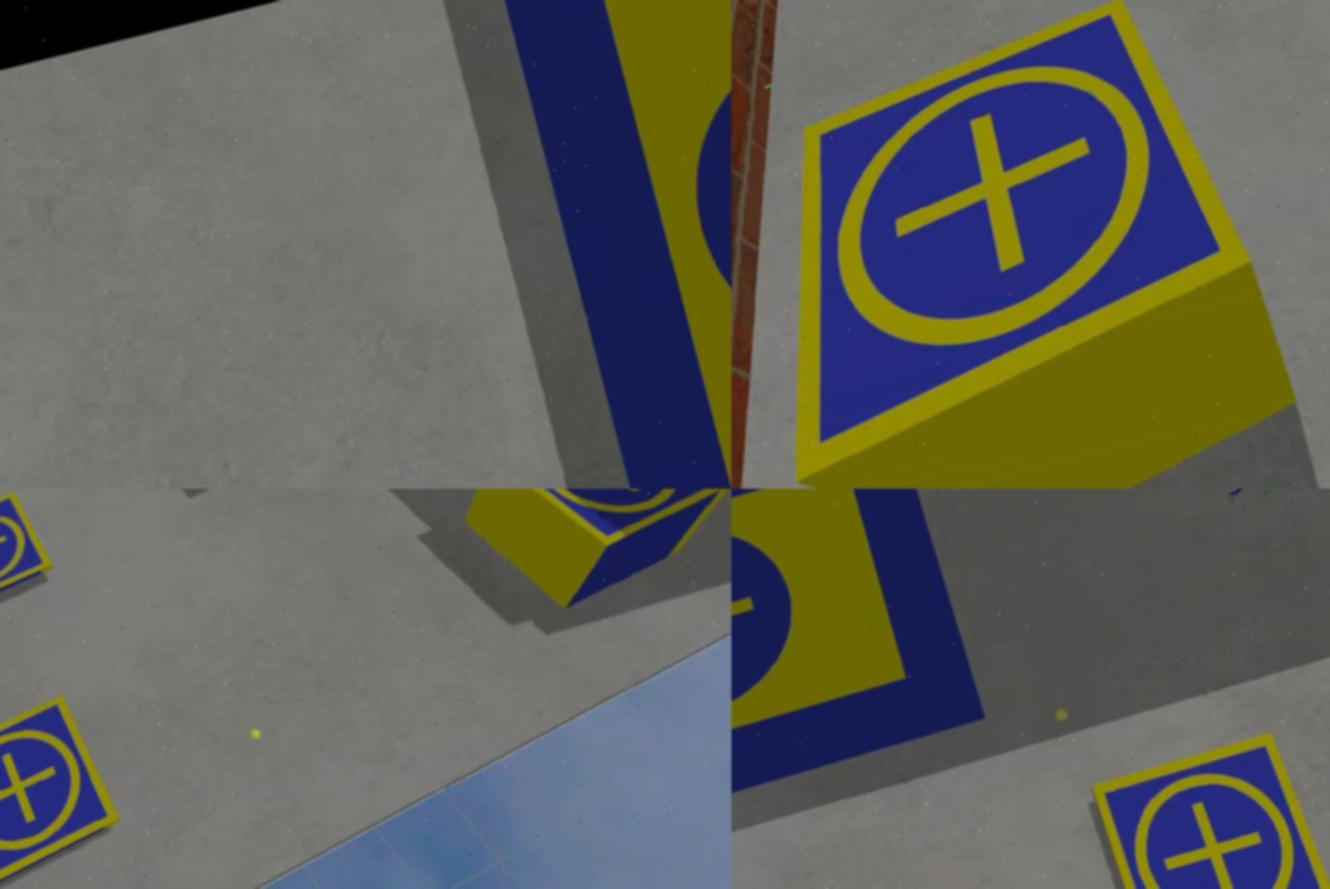large_base: (488, 1, 731, 490), (731, 490, 992, 868)
small_base: (731, 1, 1281, 490), (1090, 728, 1330, 889), (1, 691, 126, 889), (480, 490, 731, 579), (1, 490, 61, 622)
